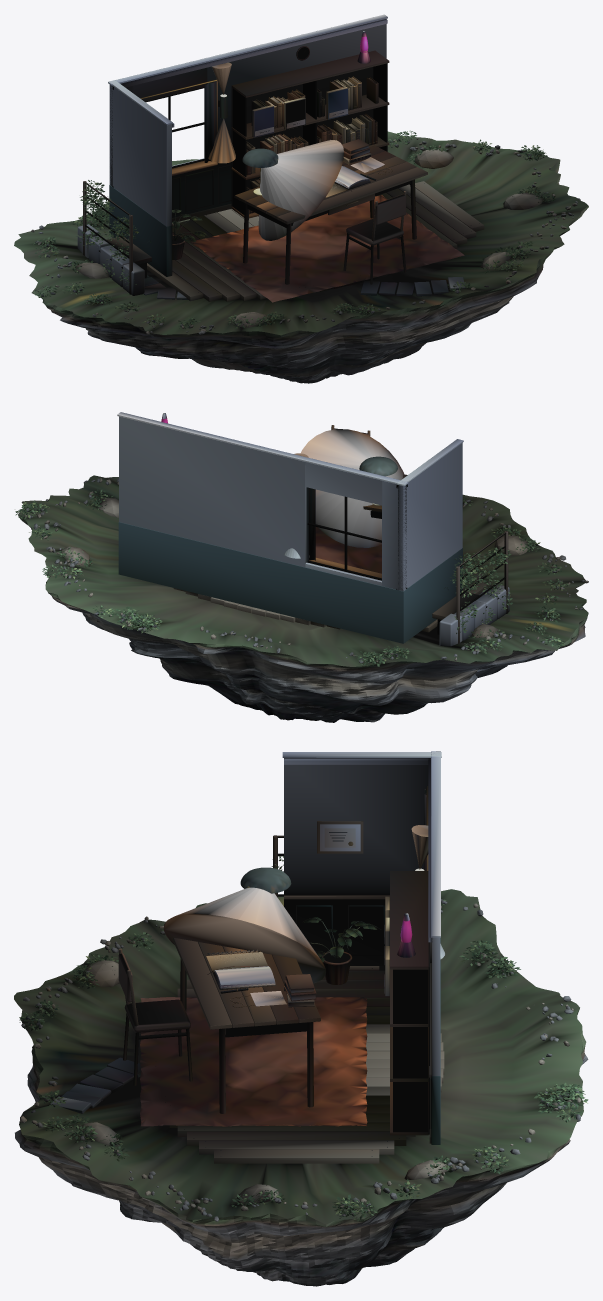
The model's file is flight-writing-9efa2204.glb.
The picture shows the model from 3 angles, top to bottom: view 1: azimuth 30°, elevation 25°; view 2: azimuth 150°, elevation 25°; view 3: azimuth 270°, elevation 25°; orthographic projection. The views are drawn at different scales.
Visible parts, largest first — view 1: Writing island · flight.001; view 2: Writing island · flight.001; view 3: Writing island · flight.001.
Boxes of the visible parts, x1,y1,x2,y2 form: Writing island · flight.001: [14, 14, 588, 383]; Writing island · flight.001: [15, 412, 588, 722]; Writing island · flight.001: [14, 751, 588, 1286].
Size of the model in its own units: 11.74 by 6.45 by 8.16.
